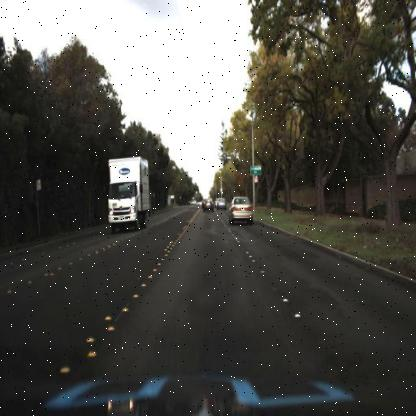car: (230, 190, 253, 223), (212, 194, 228, 214), (202, 194, 214, 215), (216, 198, 227, 210)
truck: (105, 153, 150, 232)
